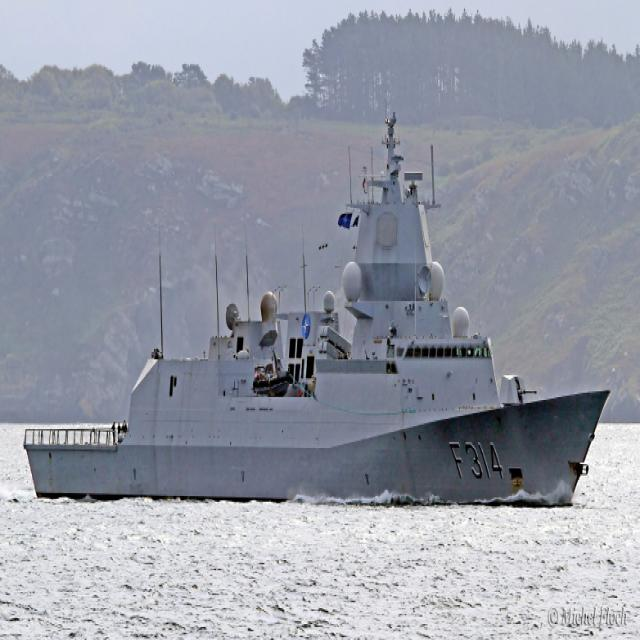Fragata: (22, 96, 616, 512)
